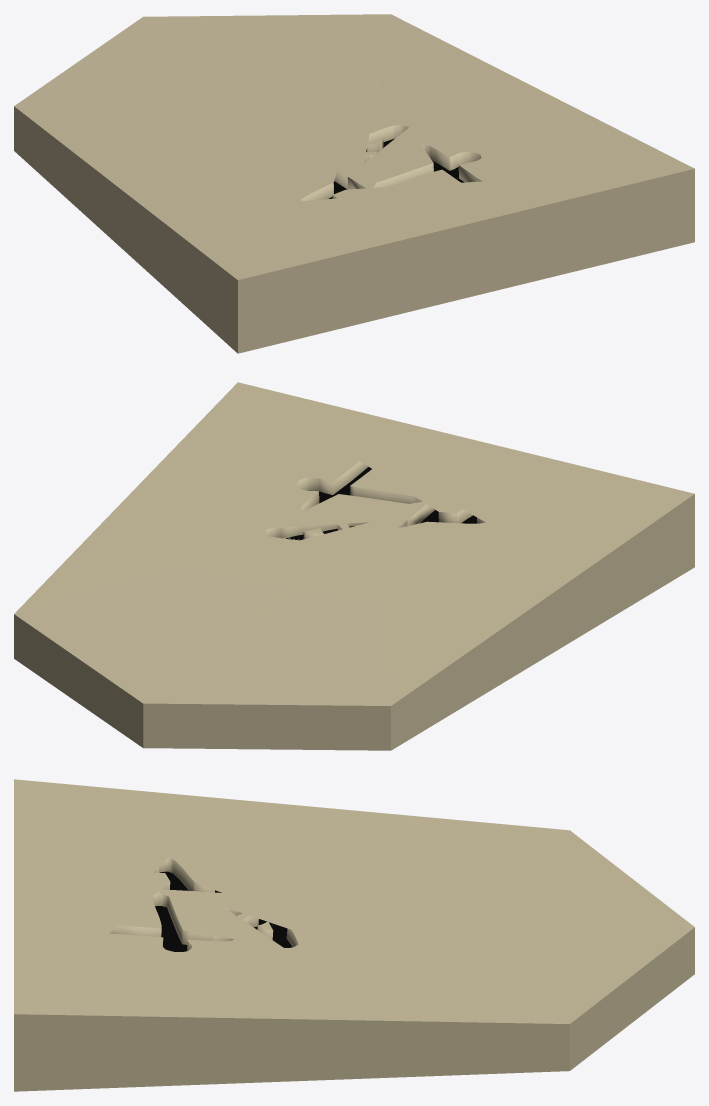
Rendered from shogi_king1.fbx.
3 renders of one model, top to bottom at view 1: azimuth 30°, elevation 25°; view 2: azimuth 150°, elevation 25°; view 3: azimuth 270°, elevation 25°, orthographic. The views are drawn at different scales.
Visible parts, largest first — view 1: BezierCurve.001; view 2: BezierCurve.001; view 3: BezierCurve.001.
Boxes of the visible parts, x1,y1,x2,y2 form: BezierCurve.001: [14, 14, 694, 353]; BezierCurve.001: [14, 382, 694, 750]; BezierCurve.001: [14, 779, 694, 1091].
Size of the model in its own units: 200 by 30.74 by 245.
